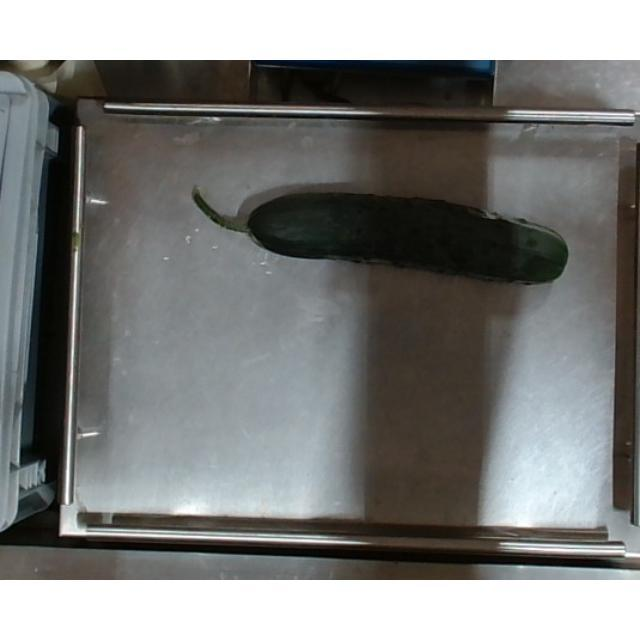cucumber: (196, 178, 568, 288)
